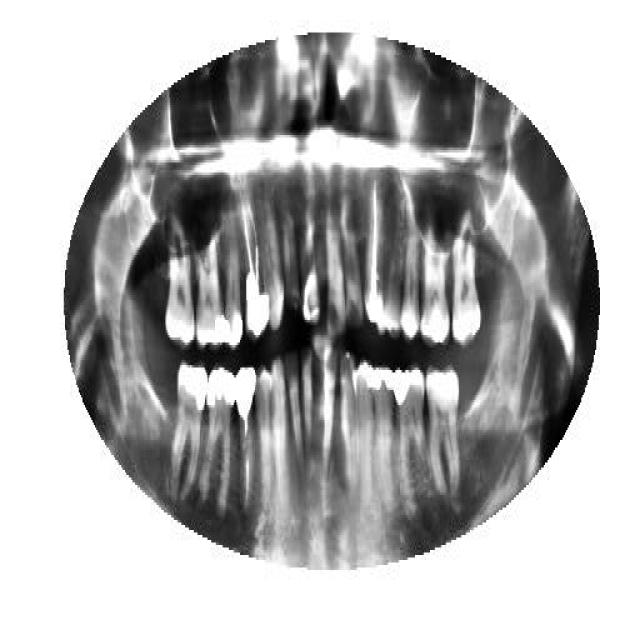Fillings: (168, 360, 208, 505), (199, 368, 235, 518), (394, 368, 430, 500), (195, 240, 224, 350), (374, 365, 395, 507), (356, 355, 374, 500)
Implant: (245, 200, 270, 340), (235, 362, 257, 508), (365, 180, 384, 328)
